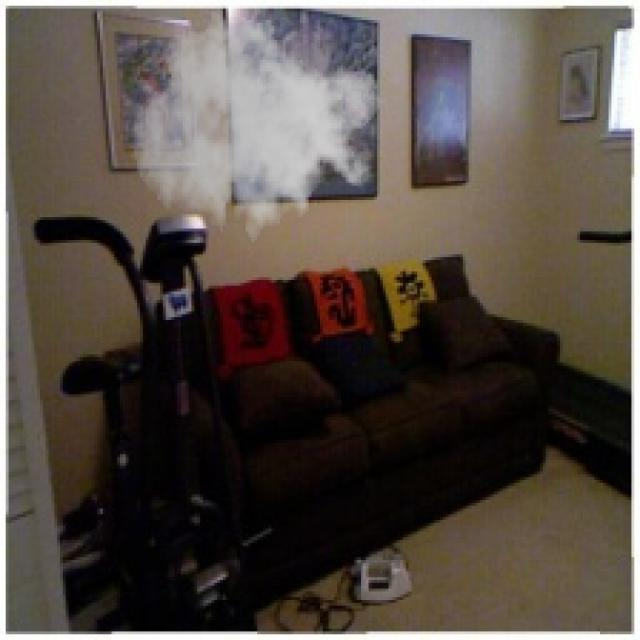smoke: (131, 3, 383, 254)
